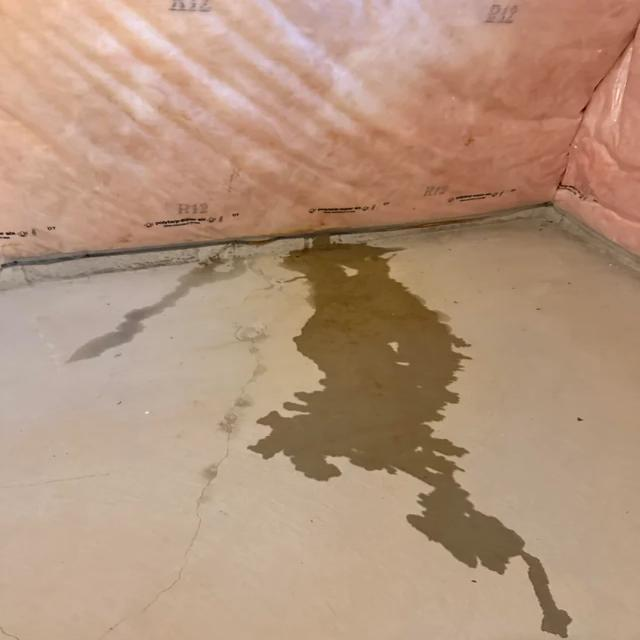water accumulation: (248, 238, 570, 637), (67, 251, 246, 365)
